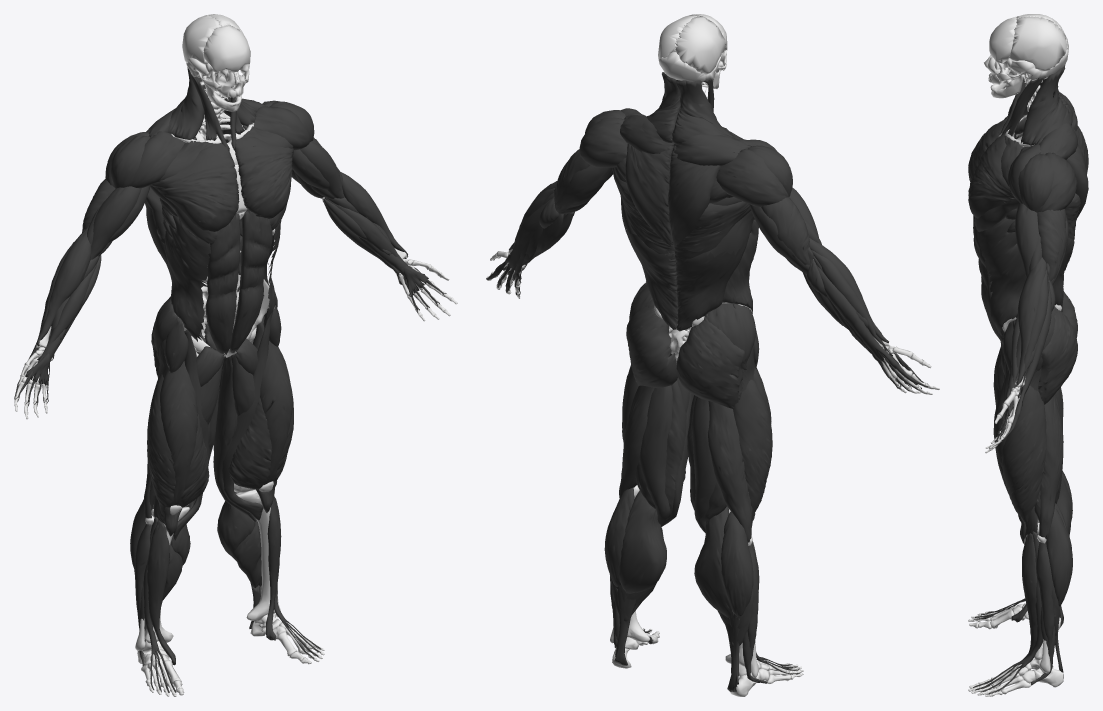
File: corpo-1.glb
3 renders of one model, left to right at view 1: azimuth 30°, elevation 25°; view 2: azimuth 150°, elevation 25°; view 3: azimuth 270°, elevation 25°, orthographic. The views are drawn at different scales.
Visible parts, largest first — view 1: osso, deco, peito_medial, quad_reto_femoral, antebraco_flexores, adutores, obliquos, abdomen_supra, quad_vasto_medial, ombro_frontal, antebraco_braquiorradial, fundo (+13 smaller); view 2: panturrilha_gastro, isquio_semitendineo, gluteo_maximo, osso, dorsal_inferior, trapezio_inferior, antebraco_extensores, isquio_biceps_femoral, ombro_posterior, dorsal_superior, quad_vasto_lateral, deco (+12 smaller); view 3: osso, deco, quad_vasto_lateral, obliquos, peito_medial, gluteo_maximo, isquio_biceps_femoral, panturrilha_gastro, trapezio_superior, antebraco_extensores, antebraco_braquiorradial, ombro_lateral (+20 smaller).
Boxes of the visible parts, x1,y1,x2,y2 form: osso: [14, 14, 457, 696]; deco: [135, 70, 320, 692]; peito_medial: [151, 137, 293, 231]; quad_reto_femoral: [160, 316, 293, 536]; antebraco_flexores: [15, 197, 446, 405]; adutores: [174, 338, 257, 541]; obliquos: [164, 215, 281, 341]; abdomen_supra: [207, 209, 272, 294]; quad_vasto_medial: [180, 397, 272, 507]; ombro_frontal: [130, 106, 310, 188]; antebraco_braquiorradial: [36, 172, 407, 346]; fundo: [36, 78, 407, 650]; panturrilha_gastro: [604, 487, 753, 617]; isquio_semitendineo: [635, 379, 726, 532]; gluteo_maximo: [626, 304, 744, 408]; osso: [486, 14, 939, 696]; dorsal_inferior: [624, 225, 745, 331]; trapezio_inferior: [625, 144, 720, 247]; antebraco_extensores: [486, 188, 928, 391]; isquio_biceps_femoral: [619, 385, 751, 542]; ombro_posterior: [579, 117, 788, 206]; dorsal_superior: [612, 167, 754, 257]; quad_vasto_lateral: [622, 365, 772, 520]; deco: [610, 78, 799, 691]; osso: [968, 14, 1068, 696]; deco: [973, 76, 1063, 694]; quad_vasto_lateral: [1001, 385, 1046, 538]; obliquos: [978, 216, 1026, 337]; peito_medial: [968, 119, 1019, 218]; gluteo_maximo: [1038, 291, 1077, 404]; isquio_biceps_femoral: [1034, 387, 1063, 539]; panturrilha_gastro: [1046, 470, 1072, 606]; trapezio_superior: [1021, 65, 1072, 146]; antebraco_extensores: [1001, 269, 1055, 441]; antebraco_braquiorradial: [1016, 257, 1046, 385]; ombro_lateral: [1018, 154, 1054, 212].
Size of the model in its own units: 1.18 by 1.64 by 0.2792.
1 material, 1 textured.
